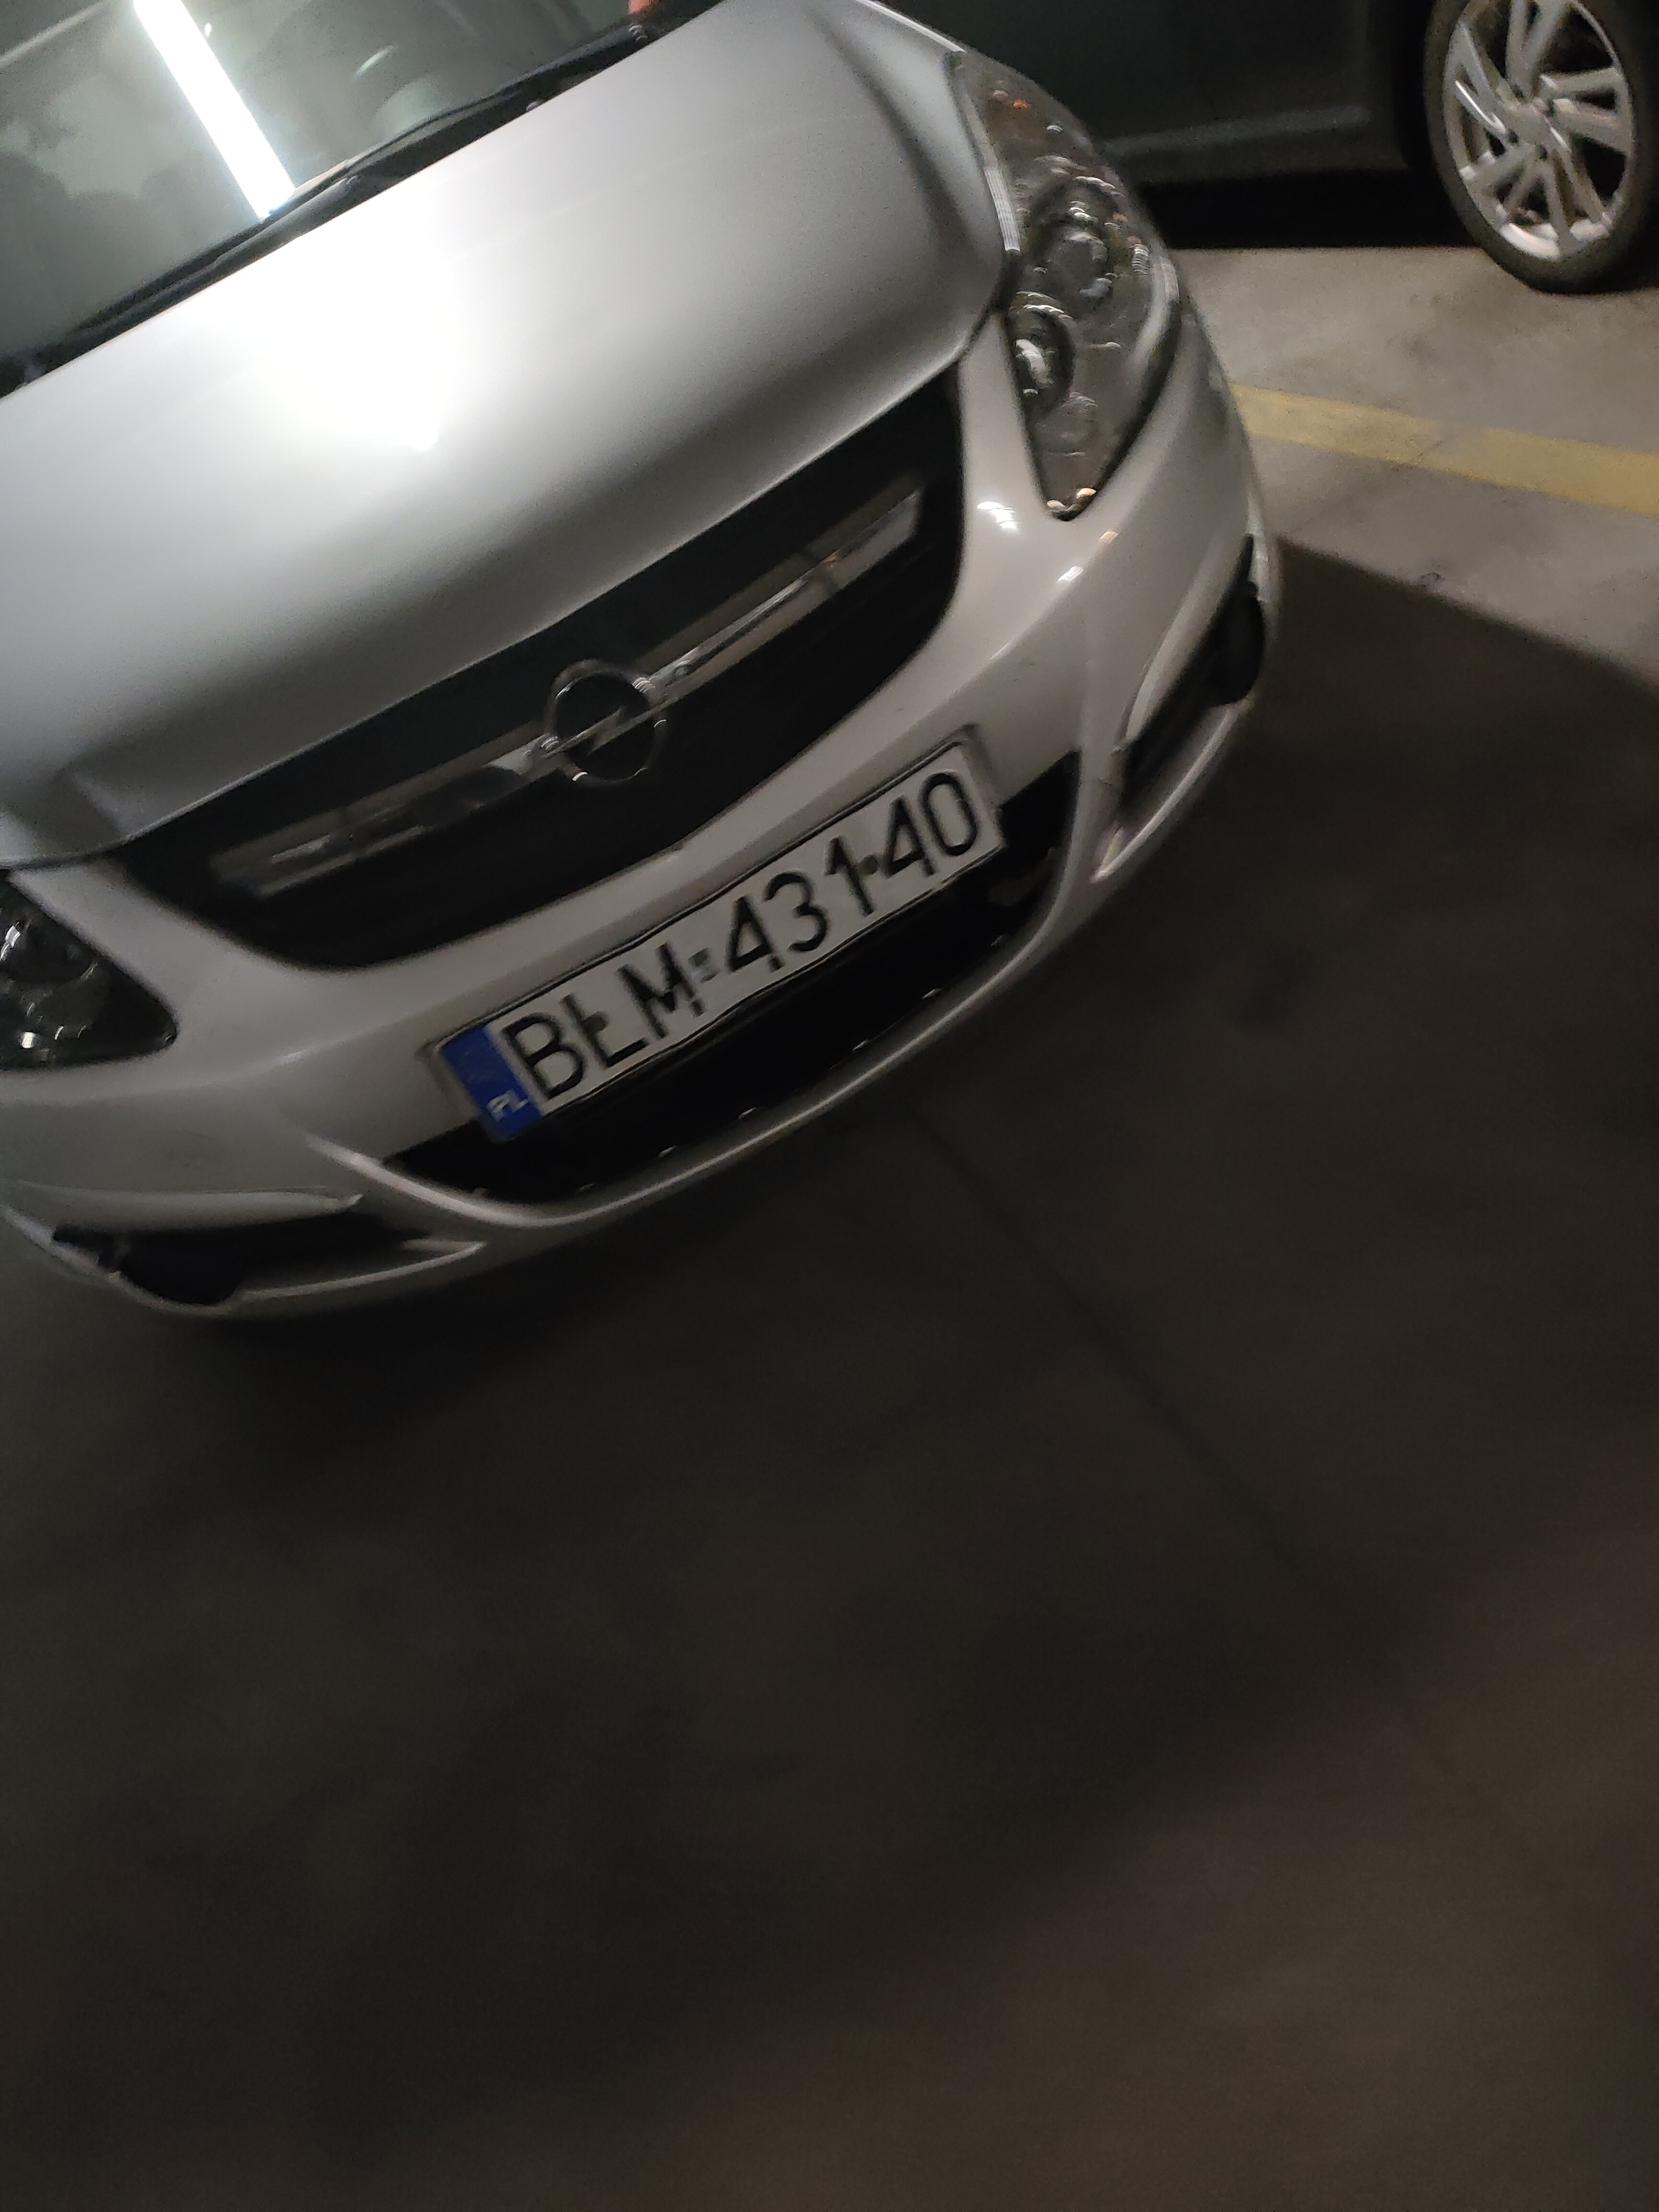number_plate: (441, 746, 1005, 1142)
